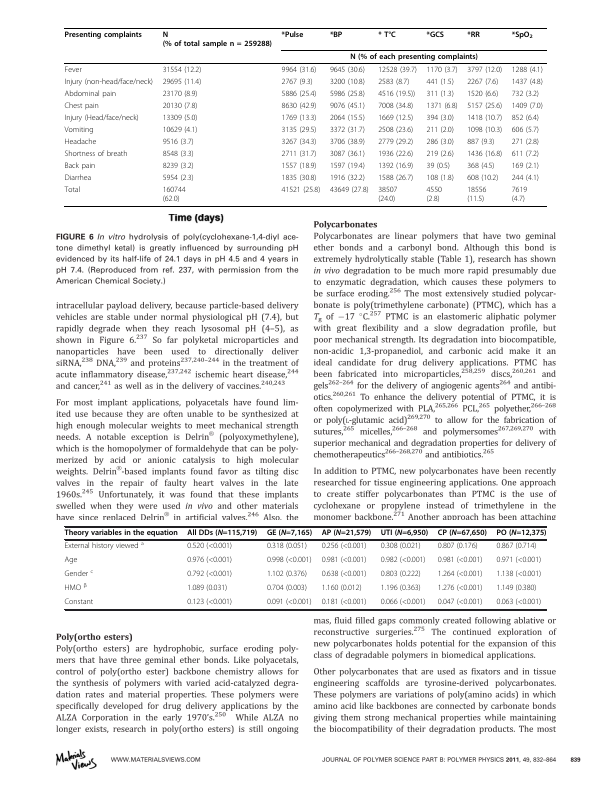borderless: (63, 26, 547, 206), (63, 525, 546, 609)
cell: (162, 30, 273, 48), (349, 52, 479, 62), (64, 529, 179, 538), (63, 540, 145, 552), (64, 77, 154, 87), (64, 113, 140, 123), (64, 30, 143, 39), (186, 529, 258, 538), (64, 149, 128, 159), (64, 89, 117, 99), (186, 542, 233, 552), (186, 556, 233, 566), (495, 556, 542, 566), (186, 570, 233, 580), (495, 570, 542, 580), (186, 598, 233, 608), (495, 598, 542, 608), (495, 529, 547, 538), (321, 542, 367, 552), (266, 556, 312, 566), (321, 556, 367, 566), (380, 556, 426, 566), (437, 556, 483, 566), (321, 570, 367, 580), (437, 570, 483, 580), (437, 584, 483, 594), (266, 598, 312, 608), (321, 598, 367, 608), (380, 598, 426, 608), (437, 598, 483, 608), (321, 529, 372, 538), (437, 529, 488, 538), (380, 529, 429, 538), (162, 185, 186, 203), (266, 529, 313, 538), (266, 542, 308, 552), (380, 542, 422, 552), (437, 542, 479, 552), (495, 542, 537, 552), (266, 570, 308, 580), (380, 570, 422, 580), (186, 584, 228, 594), (266, 584, 308, 594), (380, 584, 422, 594), (495, 584, 537, 594), (321, 584, 362, 594), (377, 65, 418, 75), (162, 65, 202, 75), (162, 77, 202, 87), (377, 89, 416, 99), (377, 185, 398, 203), (466, 185, 487, 203), (329, 65, 366, 75), (466, 65, 503, 75), (329, 77, 366, 87), (329, 89, 366, 99), (329, 101, 366, 111), (377, 101, 414, 111), (466, 101, 503, 111), (329, 113, 366, 123), (377, 113, 414, 123), (466, 113, 503, 123), (329, 125, 366, 135), (377, 125, 414, 135), (466, 125, 503, 135), (329, 137, 366, 147), (377, 137, 414, 147), (329, 149, 366, 159), (377, 149, 414, 159), (466, 149, 503, 159), (64, 568, 94, 580), (281, 65, 317, 75), (162, 89, 198, 99), (281, 89, 317, 99), (64, 101, 100, 111), (162, 101, 198, 111), (281, 101, 317, 111), (162, 113, 198, 123), (281, 113, 317, 123), (162, 125, 198, 135), (281, 125, 317, 135), (281, 137, 317, 147), (281, 149, 317, 159), (281, 185, 321, 194), (329, 185, 369, 194), (329, 161, 366, 170), (377, 161, 414, 170), (329, 173, 366, 182), (377, 173, 414, 182), (425, 65, 458, 75), (511, 65, 544, 75), (281, 77, 314, 87), (377, 77, 410, 87), (466, 77, 499, 87), (511, 77, 544, 87), (466, 89, 499, 99), (425, 101, 458, 111), (511, 101, 544, 111), (64, 137, 97, 147), (162, 137, 195, 147), (162, 149, 195, 159), (281, 161, 317, 170), (281, 173, 317, 182), (425, 185, 443, 203), (511, 185, 528, 203), (64, 598, 94, 608), (425, 77, 455, 87), (425, 89, 455, 99), (425, 113, 455, 123), (64, 125, 94, 135), (425, 125, 455, 135), (425, 137, 455, 147), (425, 149, 455, 159), (162, 161, 195, 170), (162, 173, 195, 182), (466, 173, 499, 182), (511, 89, 540, 99), (511, 113, 540, 123), (511, 125, 540, 135), (466, 137, 495, 147), (511, 137, 540, 147), (511, 149, 540, 159), (64, 582, 88, 594), (64, 161, 96, 170), (425, 173, 455, 182), (466, 161, 495, 170), (511, 161, 540, 170), (511, 173, 540, 182), (64, 173, 92, 182), (425, 161, 451, 170), (511, 30, 534, 40), (281, 30, 304, 39), (64, 65, 83, 75), (377, 30, 397, 39), (425, 30, 445, 39), (64, 185, 81, 194), (64, 556, 78, 566), (466, 30, 481, 39), (329, 30, 343, 39)
